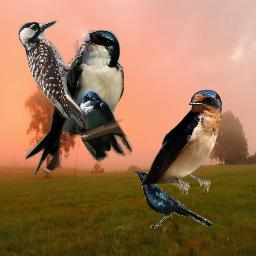Crow: (134, 171, 212, 231)
Swallow: (25, 30, 124, 178), (140, 89, 222, 195), (71, 89, 134, 165)
Woodpecker: (18, 20, 91, 129)
